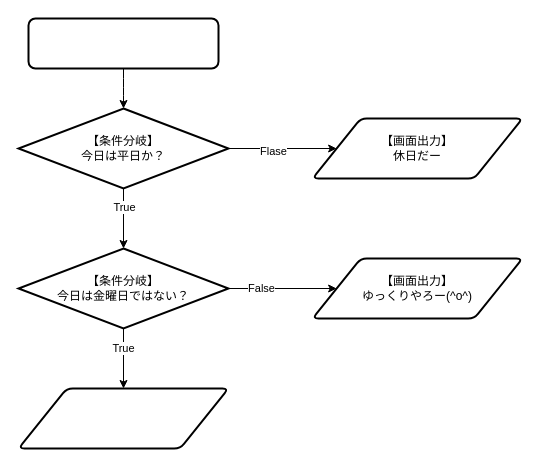
This 540x466 diagram has some shape labels left out. The shapes that lost their labels are listed below. From the top down, each one's centre as x and y in pixels, then its label:
pixel 123 43: 【処理】 今日が何曜日か確定する
pixel 123 418: 【画面出力】 頑張って働こう！
